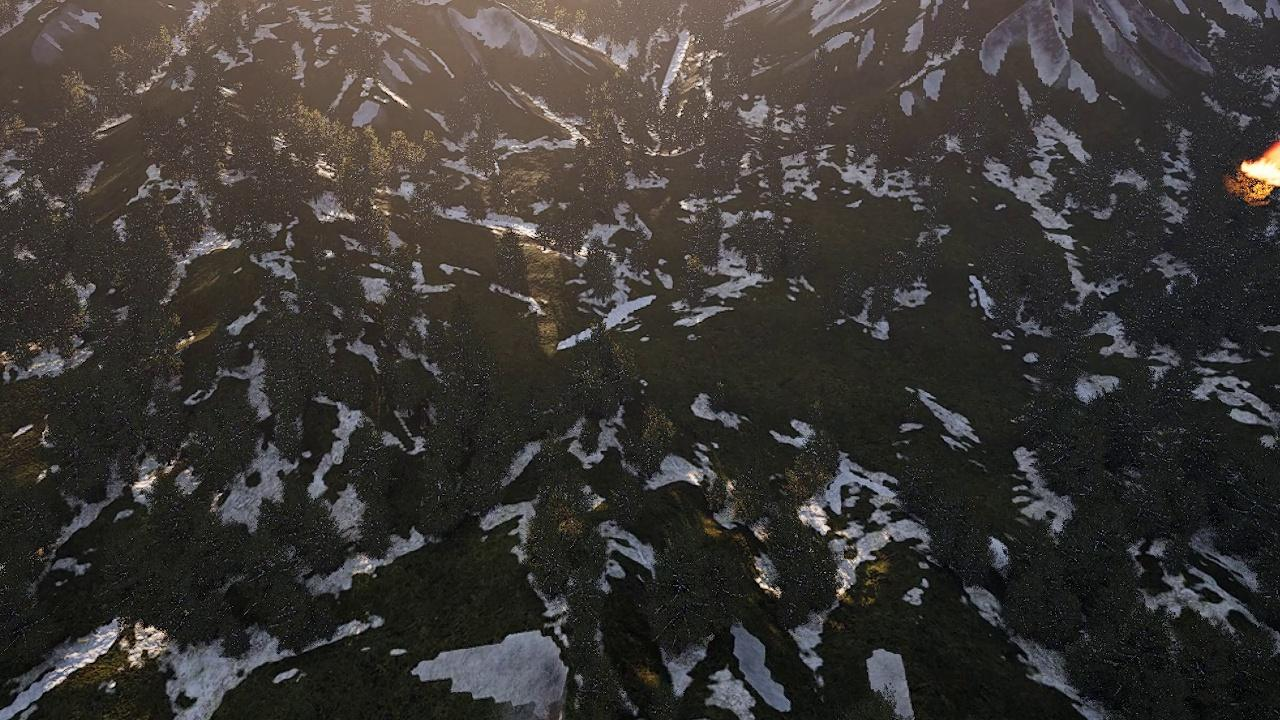fire: (1241, 145, 1280, 189), (319, 160, 340, 179), (273, 133, 287, 150)
